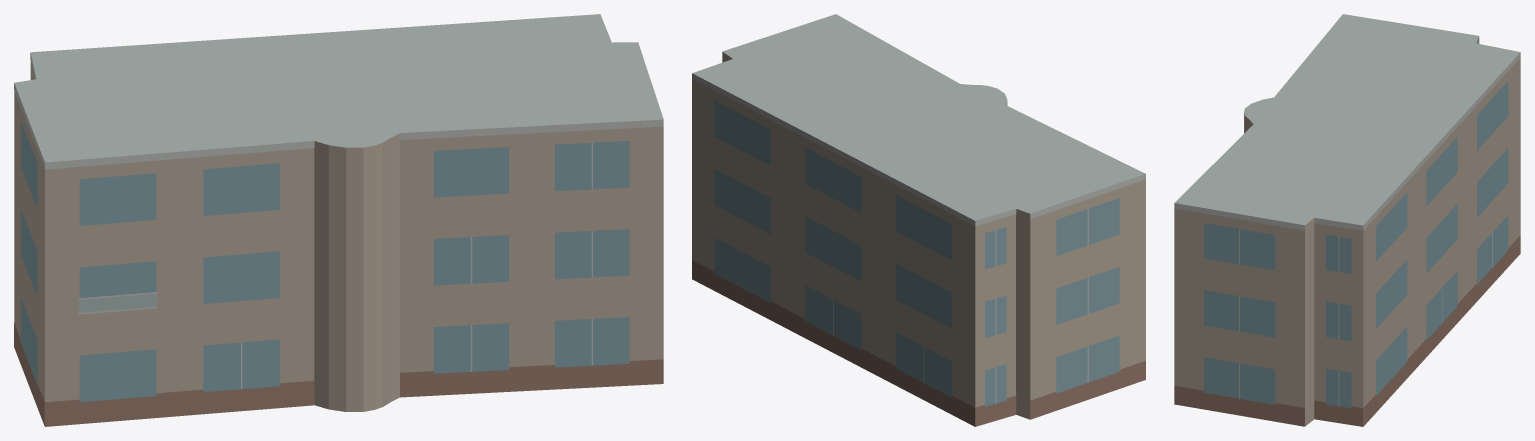
Rendered from survey-upis-32749664.glb.
The picture shows the model from 3 angles, left to right: view 1: azimuth 30°, elevation 25°; view 2: azimuth 150°, elevation 25°; view 3: azimuth 270°, elevation 25°; orthographic projection. The views are drawn at different scales.
Visible parts, largest first — view 1: survey-upis-32749664.tmp; view 2: survey-upis-32749664.tmp; view 3: survey-upis-32749664.tmp.
Part boxes in pixels (box(x1,y1,x2,y2)): survey-upis-32749664.tmp: box(14, 14, 663, 426); survey-upis-32749664.tmp: box(692, 14, 1145, 426); survey-upis-32749664.tmp: box(1174, 14, 1520, 426).
Bounding box in the file's own units: 20.61 × 9.15 × 14.27.
